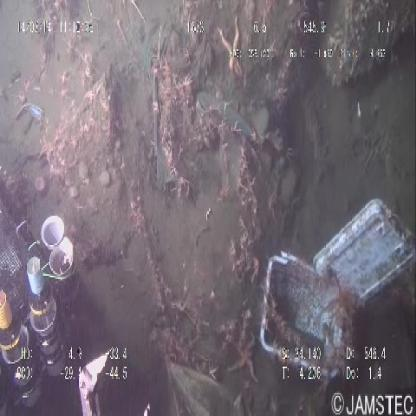Rov: (1, 140, 158, 416)
Rác: (247, 186, 416, 397)
